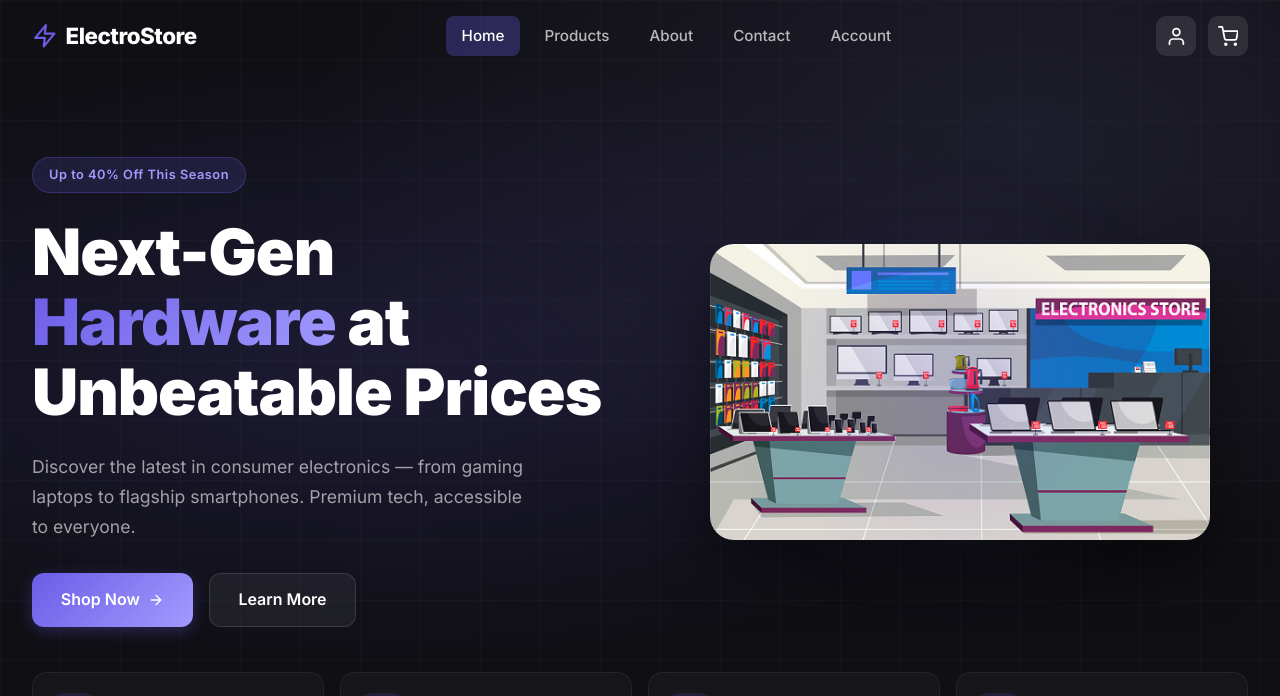
Scenario: Home Page › should navigate to Products page from Shop Now button
Click the link "Shop Now" at (113, 601), box [32,574,193,627]
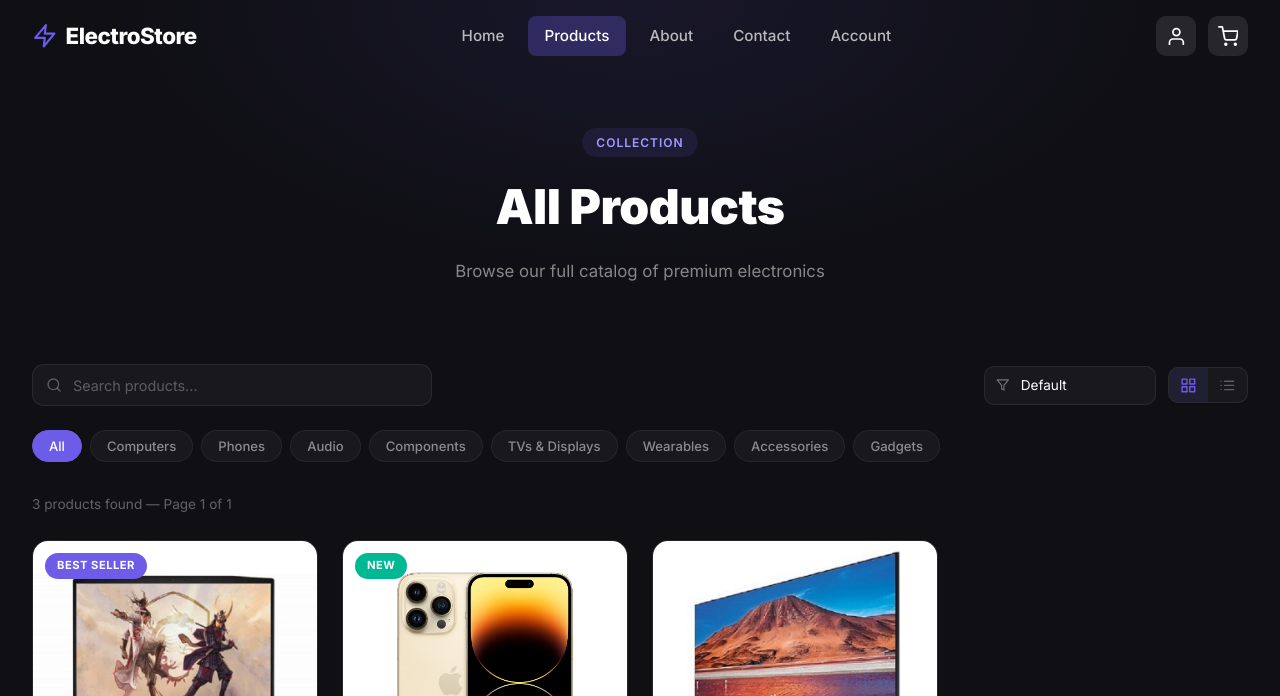
Expected: the heading "All Products" is shown, [495,177,785,236]
